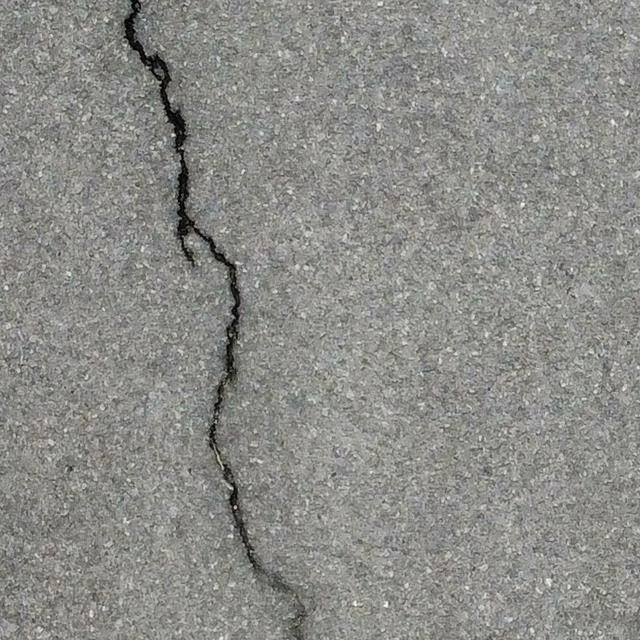LongitudinalCrack: (122, 1, 310, 640)
